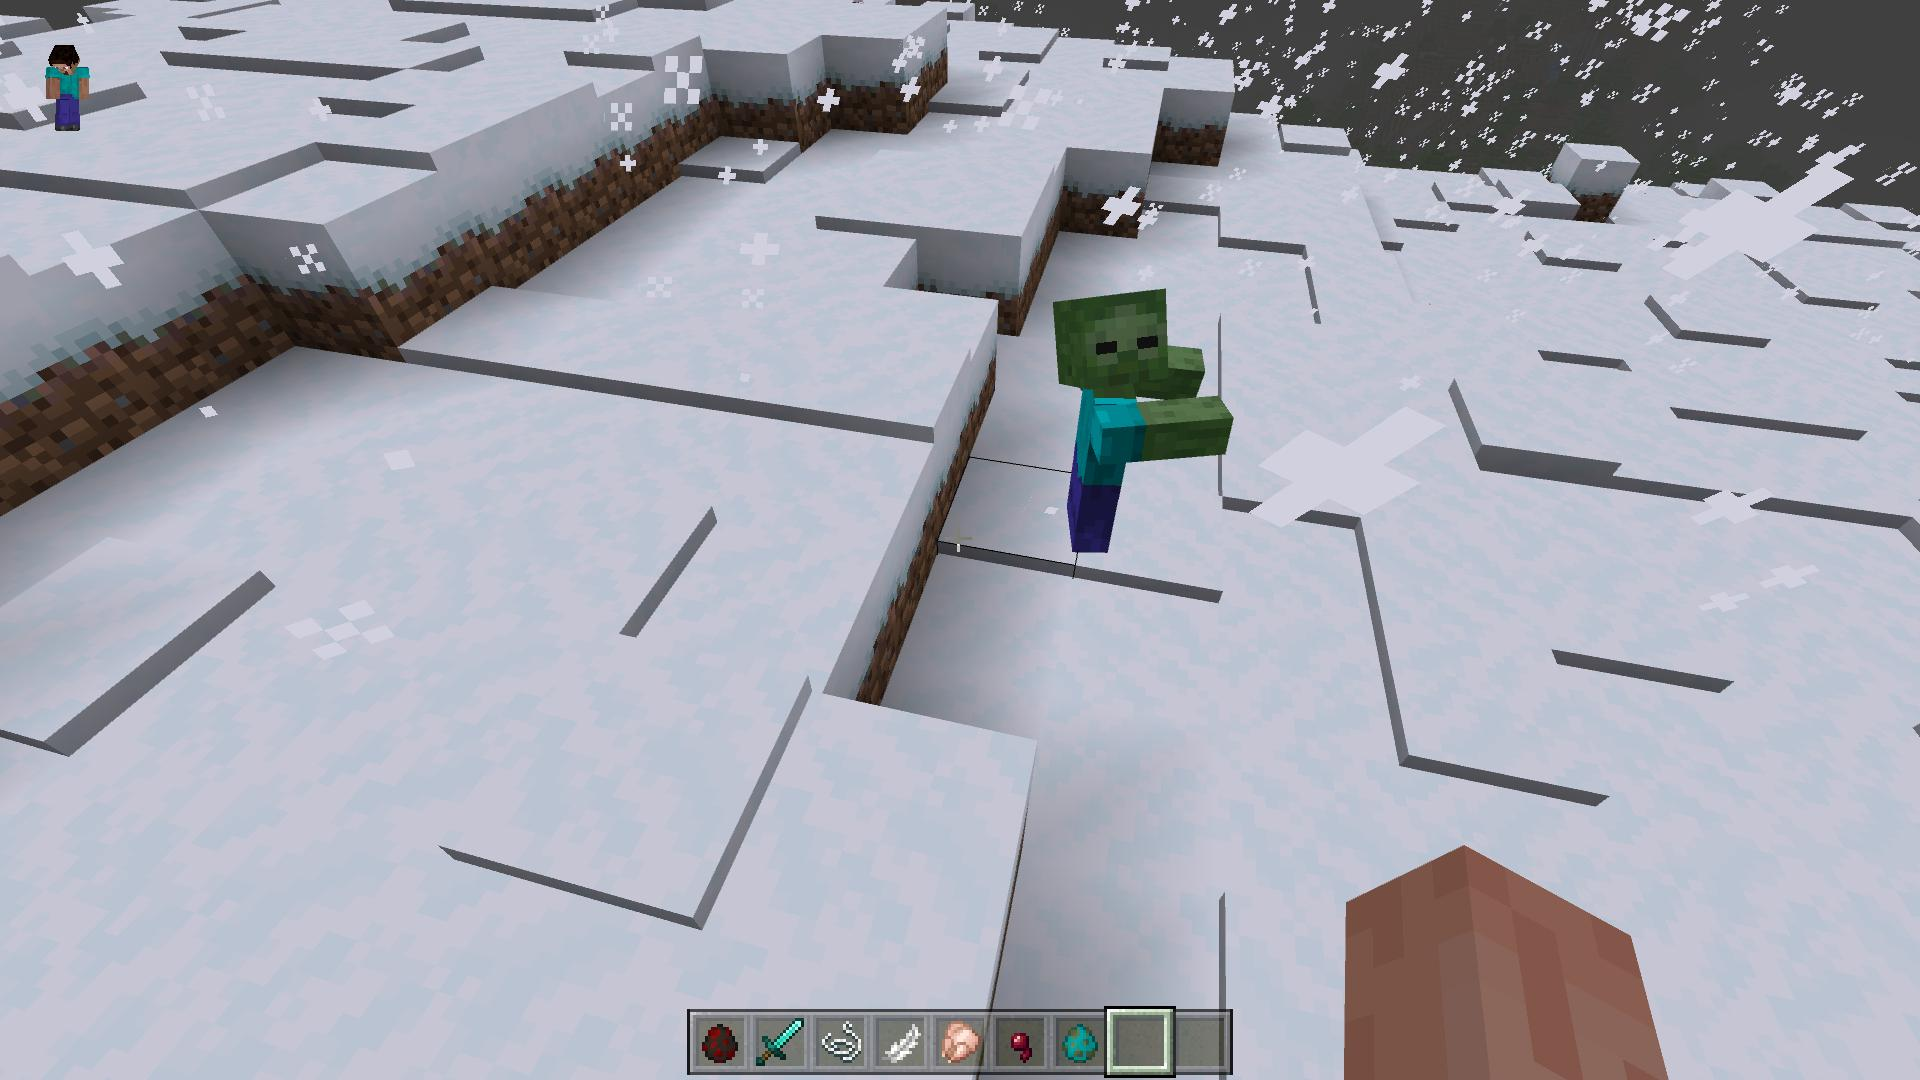zombie: (1056, 282, 1232, 550)
